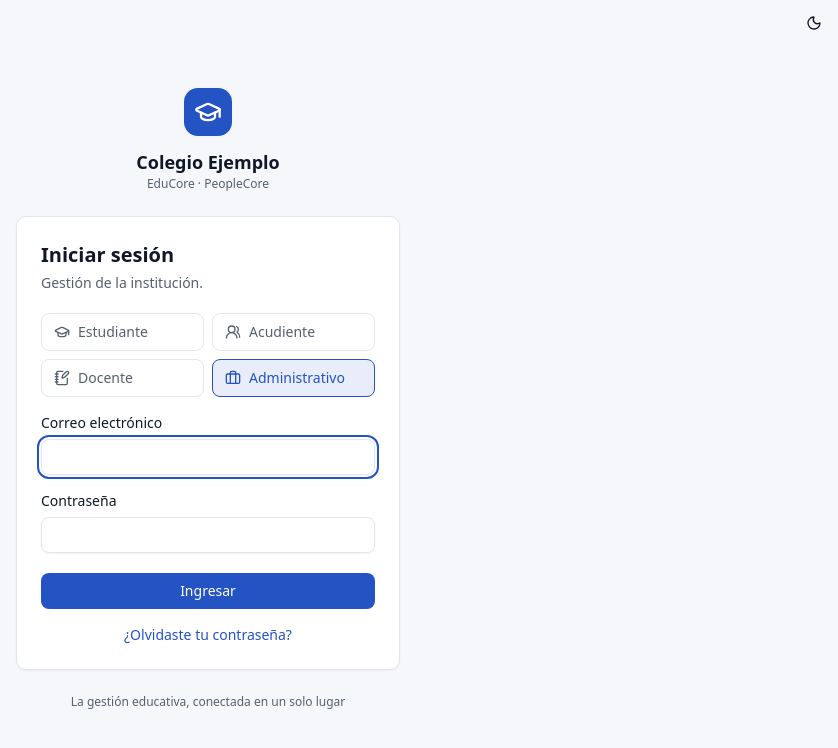
Test: Autenticación en la web › valida el formulario de inicio de sesión antes de enviarlo
Click the button "Ingresar".
click(208, 591)  # box [41,573,375,609]
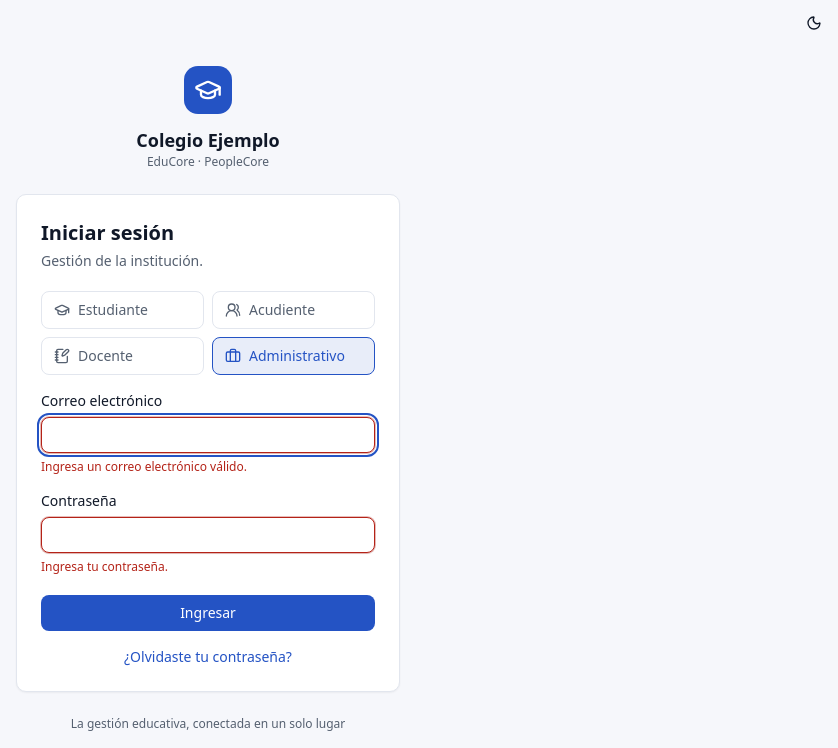
Now the text "Ingresa un correo electrónico válido." is shown, box [41,458,247,475]
Now the text "Ingresa tu contraseña." is shown, box [41,558,168,575]
